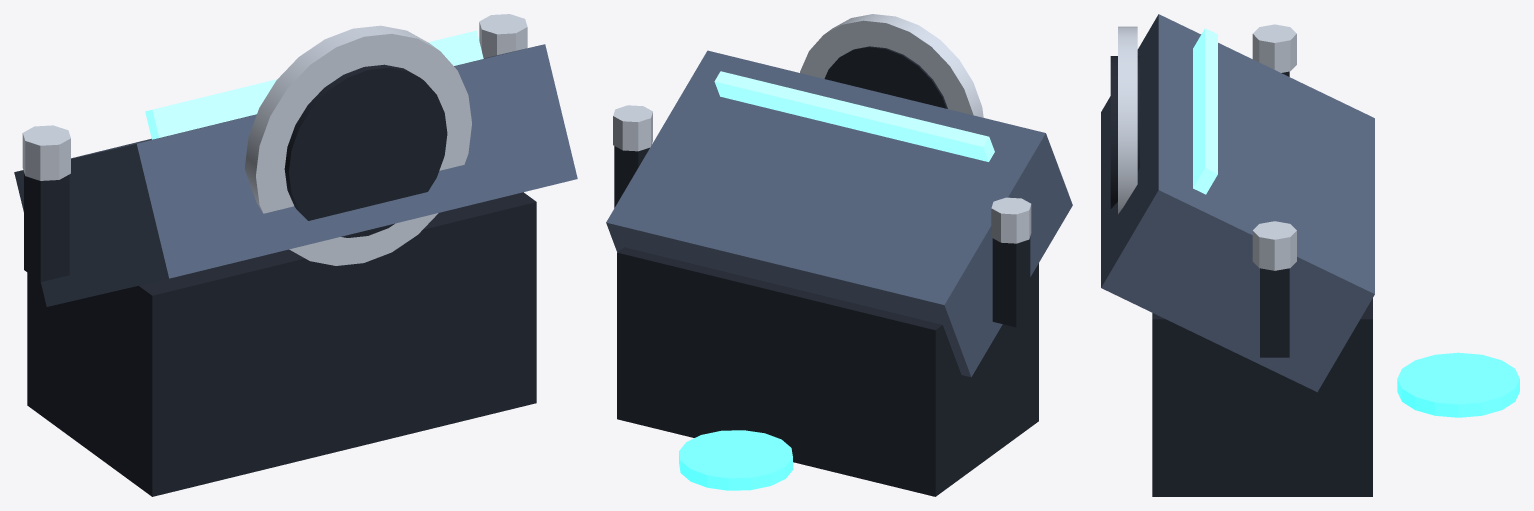
File: mod_timon.fbx
The picture shows the model from 3 angles, left to right: view 1: azimuth 30°, elevation 25°; view 2: azimuth 150°, elevation 25°; view 3: azimuth 270°, elevation 25°; orthographic projection. The views are drawn at different scales.
Parts seen in each view (by area): view 1: Timon, Timon_Neon; view 2: Timon, Timon_Neon, Timon_Marca; view 3: Timon, Timon_Marca, Timon_Neon.
Part boxes in pixels (left/top/right/bottom): Timon: left=14, top=14, right=577, bottom=496; Timon_Neon: left=145, top=30, right=483, bottom=139; Timon: left=606, top=14, right=1072, bottom=496; Timon_Neon: left=714, top=71, right=994, bottom=161; Timon_Marca: left=679, top=430, right=792, bottom=490; Timon: left=1101, top=14, right=1374, bottom=496; Timon_Marca: left=1397, top=352, right=1519, bottom=417; Timon_Neon: left=1193, top=28, right=1217, bottom=194.
Bounding box in the file's own units: 0.5824 × 0.5012 × 0.4785.
